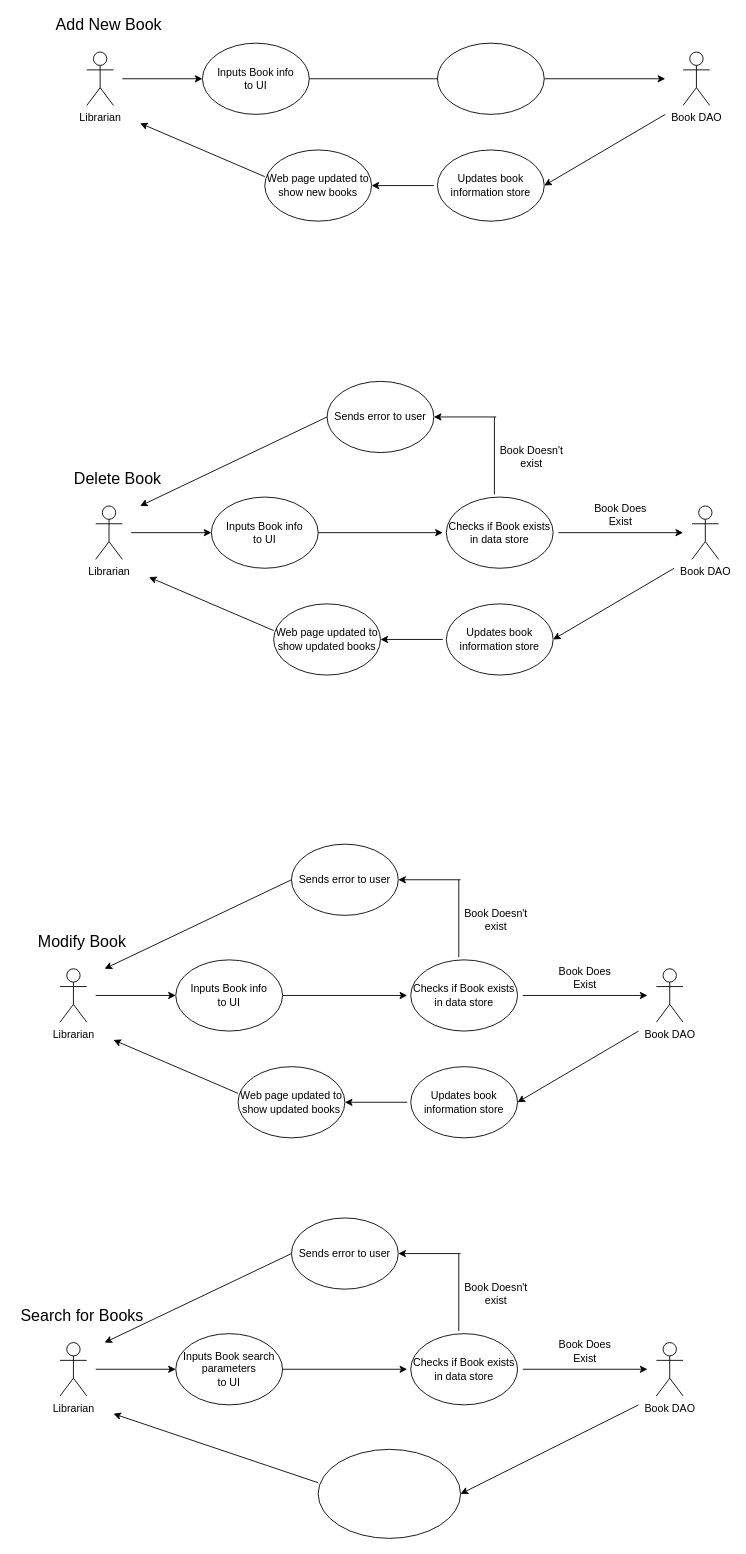
This 746x1554 diagram has some shape labels left out. The shapes that lost their labels are listed below. From the top down, each one's centre as x and y in pixels, then its label:
point 490,78: Retrieves user entered data
point 389,1493: Web page updated to show books matching search parameters
